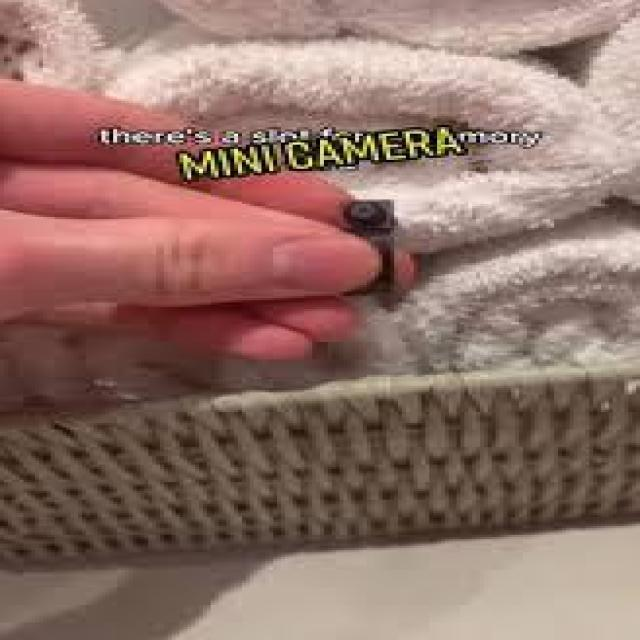hidden camera: (340, 198, 389, 232)
